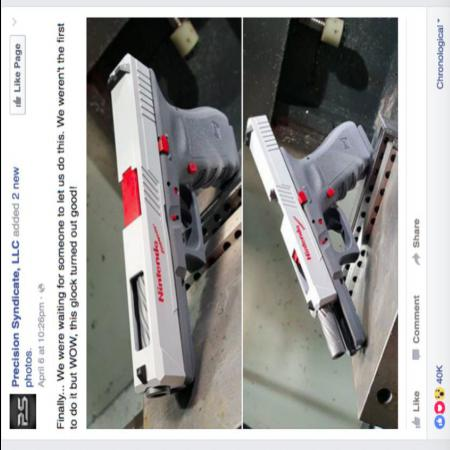Pistol: (100, 44, 238, 406), (243, 114, 375, 361)
